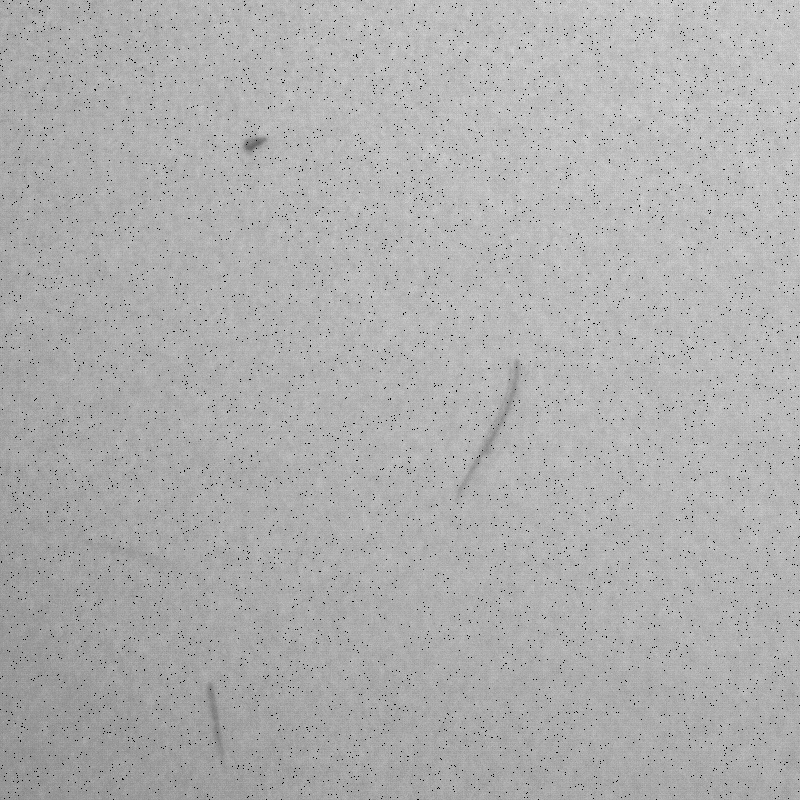defect: (454, 353, 531, 502), (198, 680, 231, 768), (242, 128, 273, 157)
